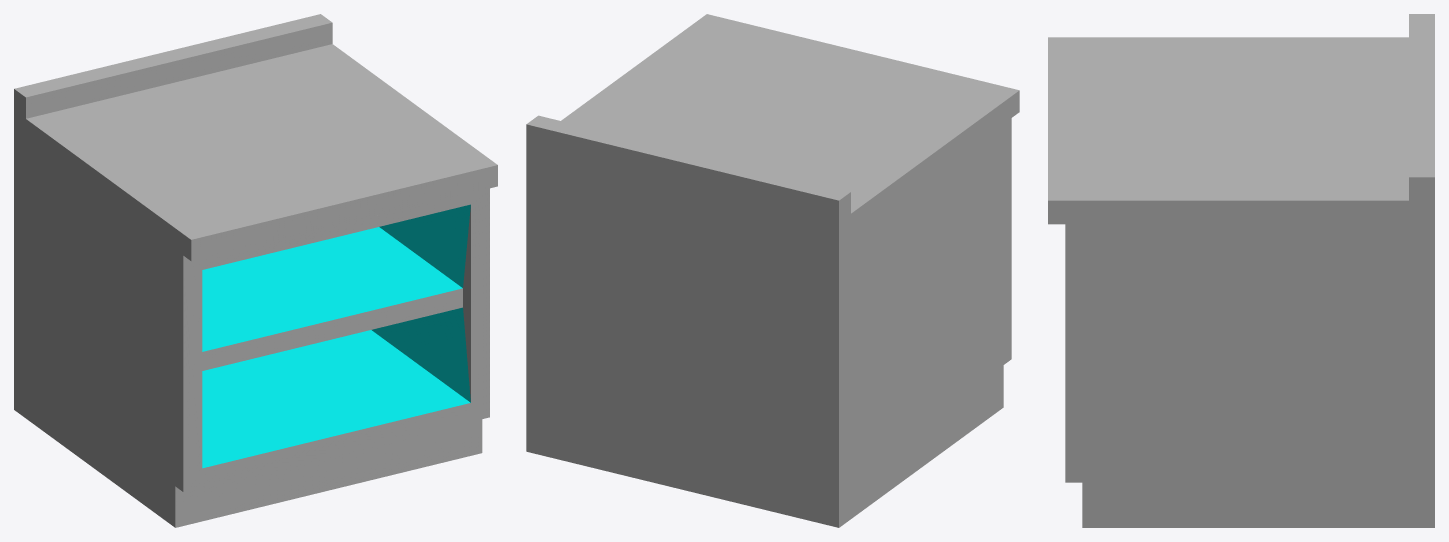
File: kitchenCabinet.glb
The picture shows the model from 3 angles, left to right: view 1: azimuth 30°, elevation 25°; view 2: azimuth 150°, elevation 25°; view 3: azimuth 270°, elevation 25°; orthographic projection. The views are drawn at different scales.
Visible parts, largest first — view 1: kitchenCabinet; view 2: kitchenCabinet; view 3: kitchenCabinet.
Boxes of the visible parts, x1=… form: kitchenCabinet: x1=14, y1=14, x2=497, y2=527; kitchenCabinet: x1=526, y1=14, x2=1019, y2=527; kitchenCabinet: x1=1048, y1=14, x2=1434, y2=527.
Bounding box in the file's own units: 0.9978 × 0.9978 × 0.9978.
